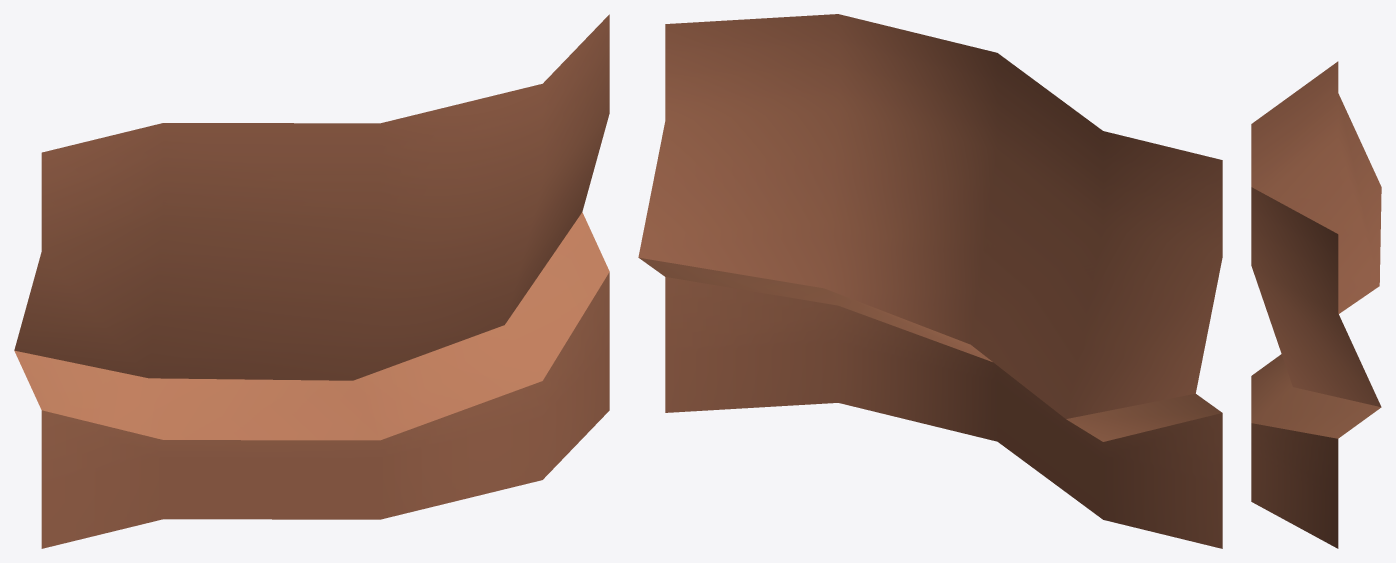
File: Hill_Cliff_H_Side_Color8.fbx
3 renders of one model, left to right at view 1: azimuth 30°, elevation 25°; view 2: azimuth 150°, elevation 25°; view 3: azimuth 270°, elevation 25°, orthographic. The views are drawn at different scales.
Visible parts, largest first — view 1: Hill_Cliff_H_Side_Color8; view 2: Hill_Cliff_H_Side_Color8; view 3: Hill_Cliff_H_Side_Color8.
Part boxes in pixels (<box>): Hill_Cliff_H_Side_Color8: <box>14,14,609,548</box>; Hill_Cliff_H_Side_Color8: <box>638,14,1222,548</box>; Hill_Cliff_H_Side_Color8: <box>1251,61,1381,548</box>.
Bounding box in the file's own units: 3 × 2 × 0.75.
